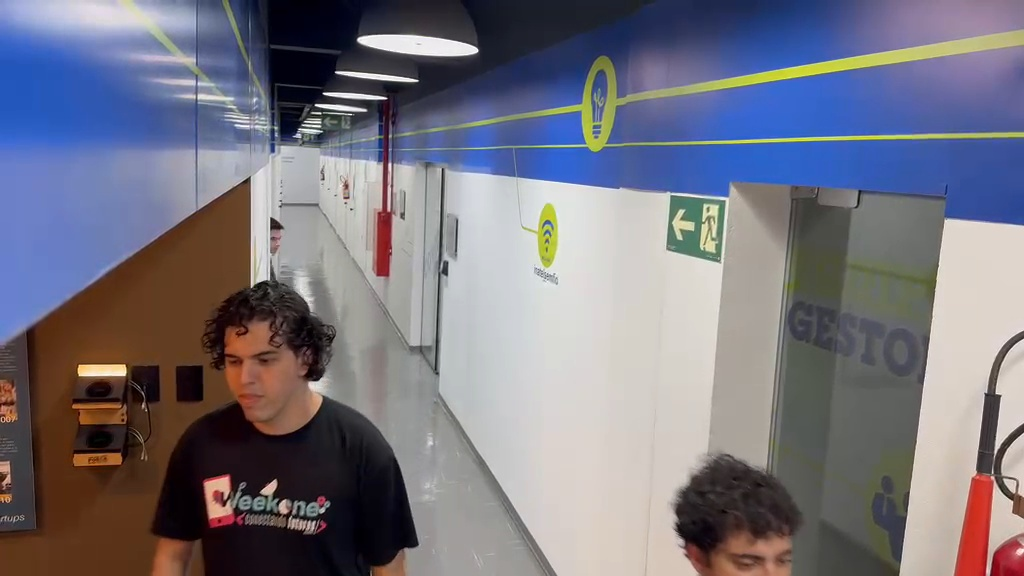person: (149, 280, 420, 571), (670, 453, 803, 574)
